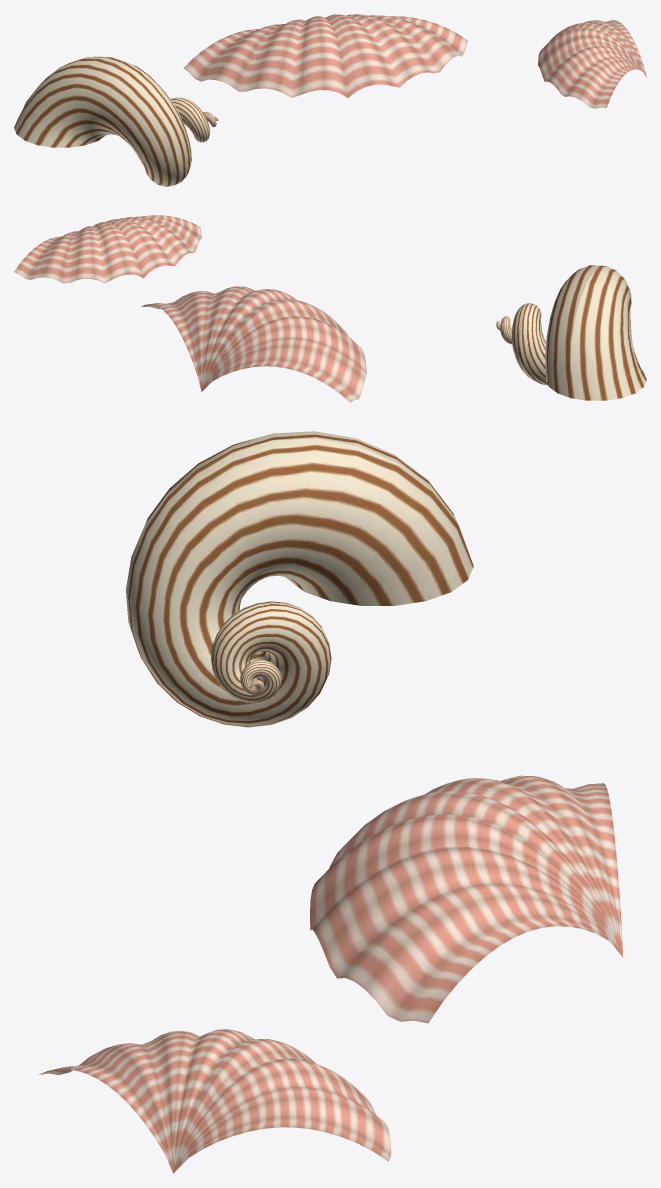
File: prop_shells.glb
3 renders of one model, top to bottom at view 1: azimuth 30°, elevation 25°; view 2: azimuth 150°, elevation 25°; view 3: azimuth 270°, elevation 25°, orthographic. The views are drawn at different scales.
Parts seen in each view (by area): view 1: shell, shell.002, shell.001; view 2: shell, shell.002, shell.001; view 3: shell.002, shell, shell.001.
Part boxes in pixels (left/top/right/bottom): shell: left=184, top=14, right=467, bottom=97; shell.002: left=14, top=56, right=218, bottom=186; shell.001: left=538, top=20, right=646, bottom=108; shell: left=141, top=286, right=366, bottom=402; shell.002: left=496, top=265, right=646, bottom=400; shell.001: left=14, top=215, right=201, bottom=283; shell.002: left=126, top=431, right=473, bottom=727; shell: left=310, top=775, right=623, bottom=1023; shell.001: left=38, top=1029, right=391, bottom=1173.
Bounding box in the file's own units: 9.99 × 1.97 × 4.3.
2 materials, 2 textured.
